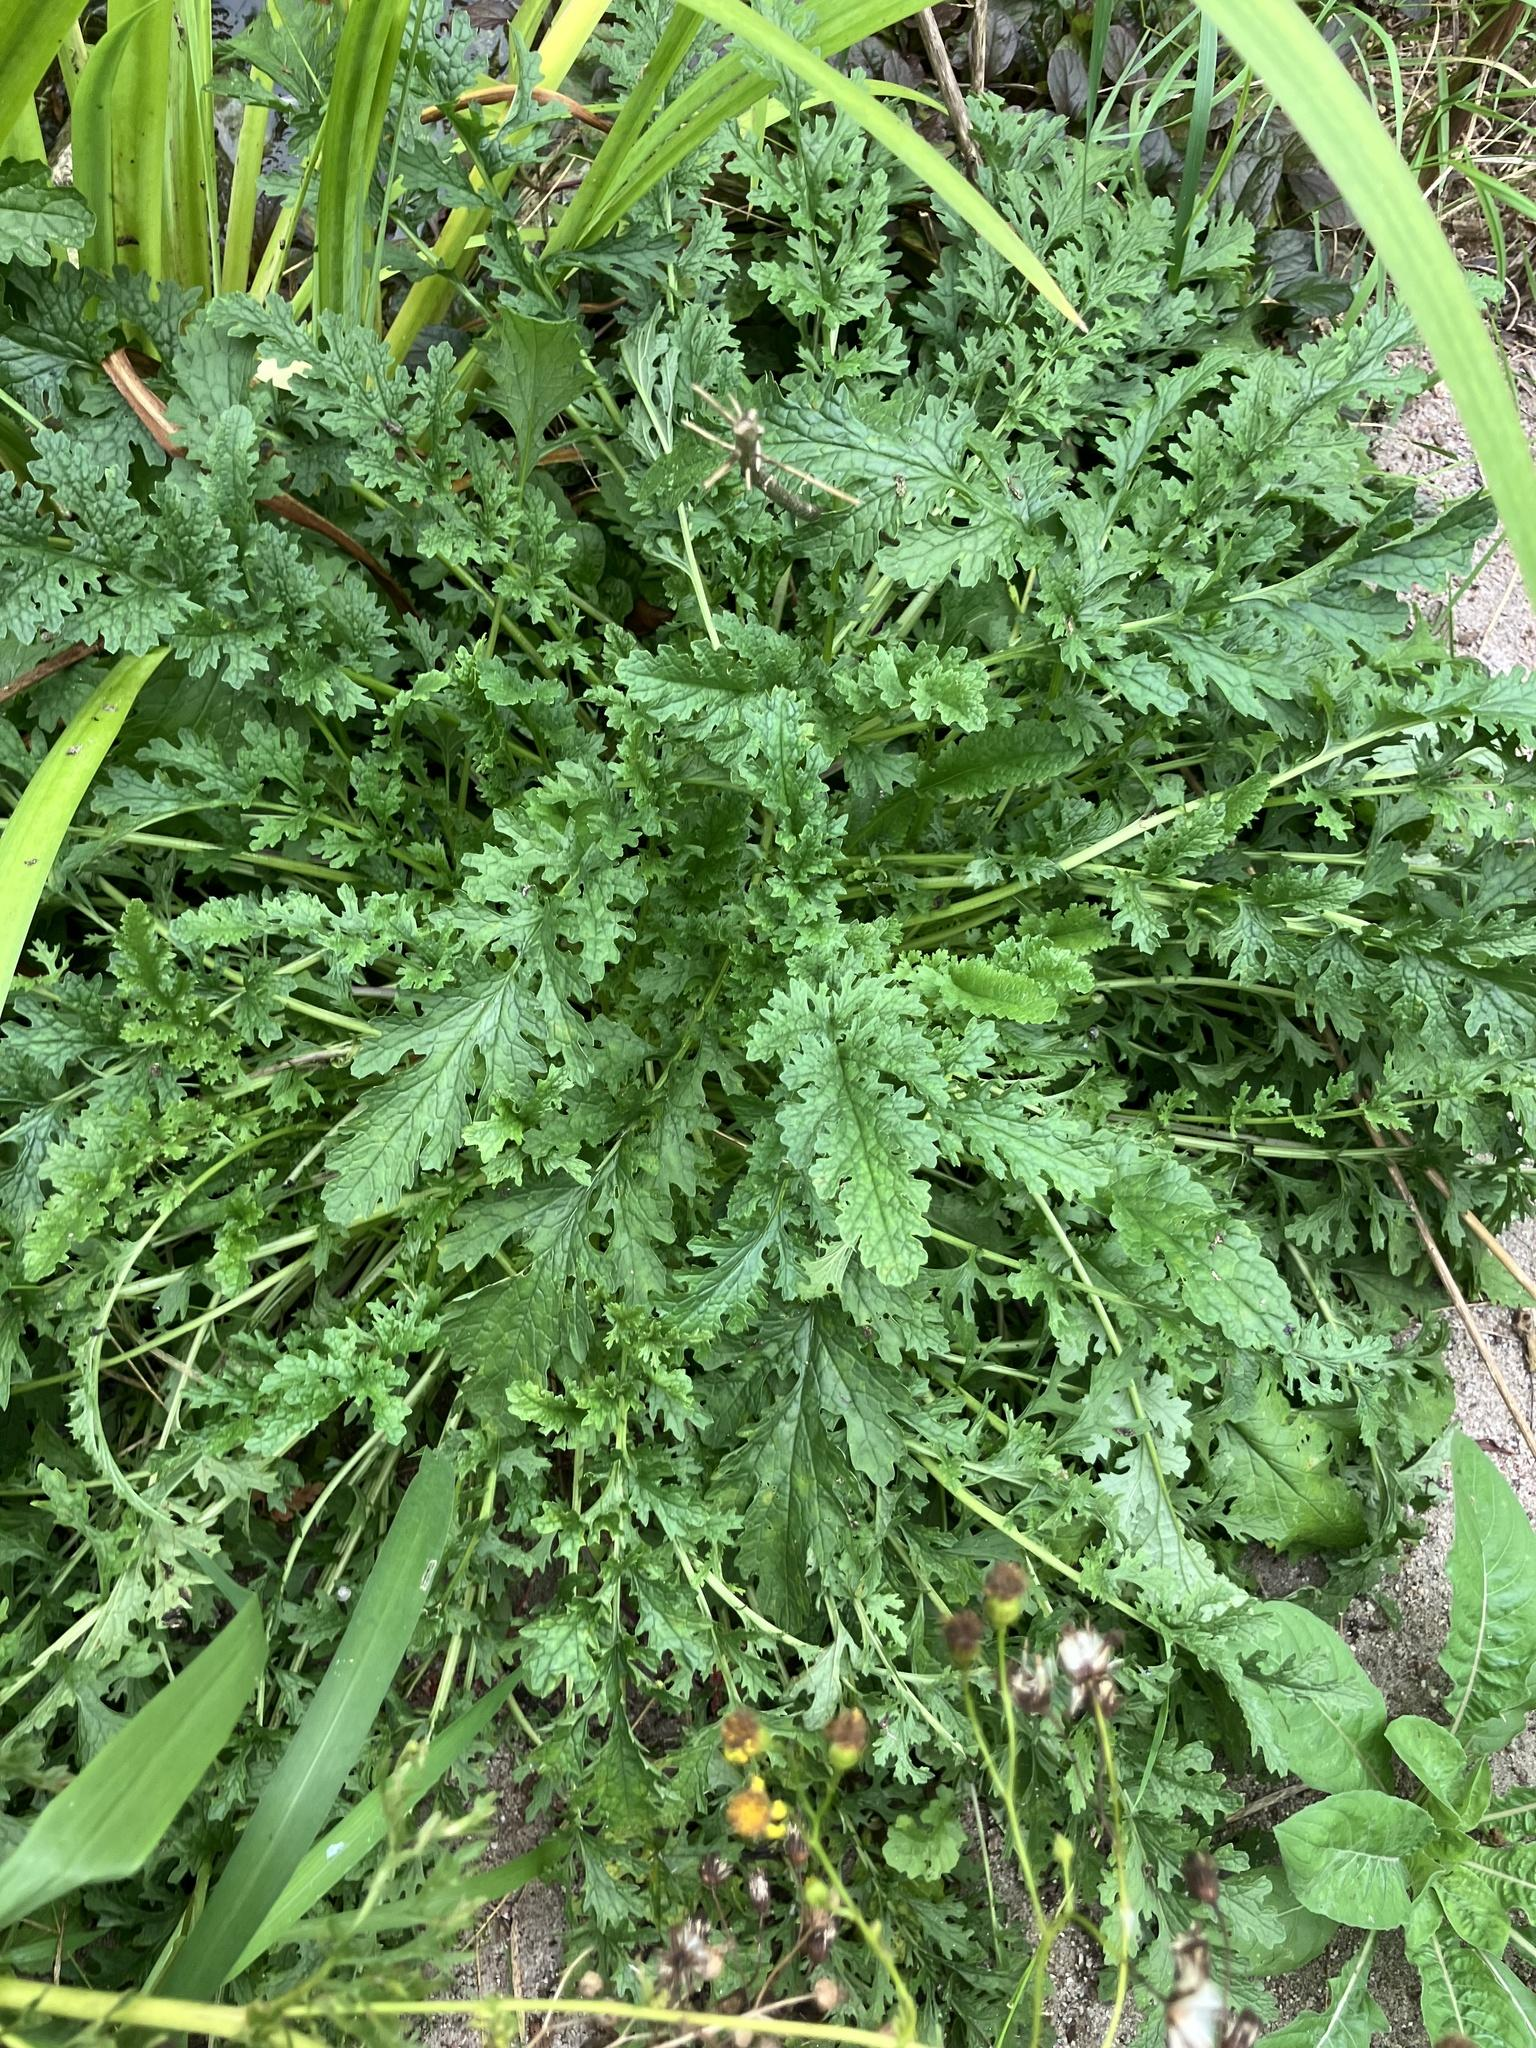Jacobaea vulgaris: (216, 231, 1354, 1487)
